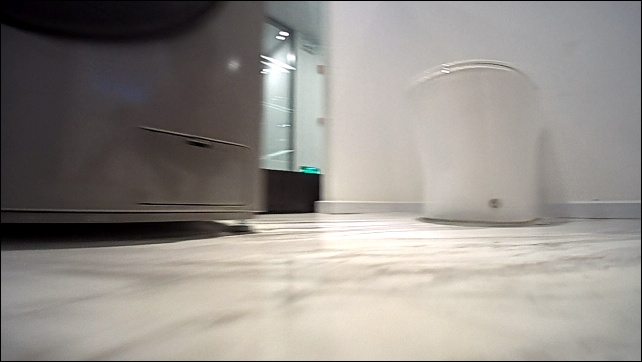toilet: (395, 55, 549, 227)
